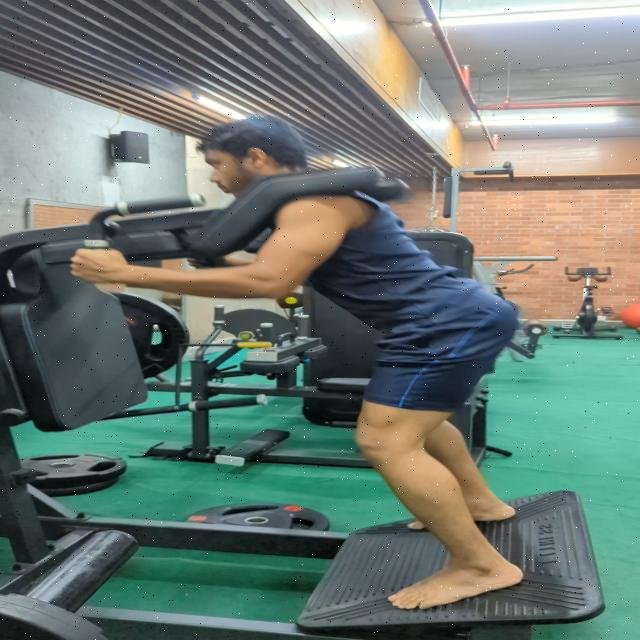Normal_SquatsWithBarbell: (0, 103, 524, 639)
